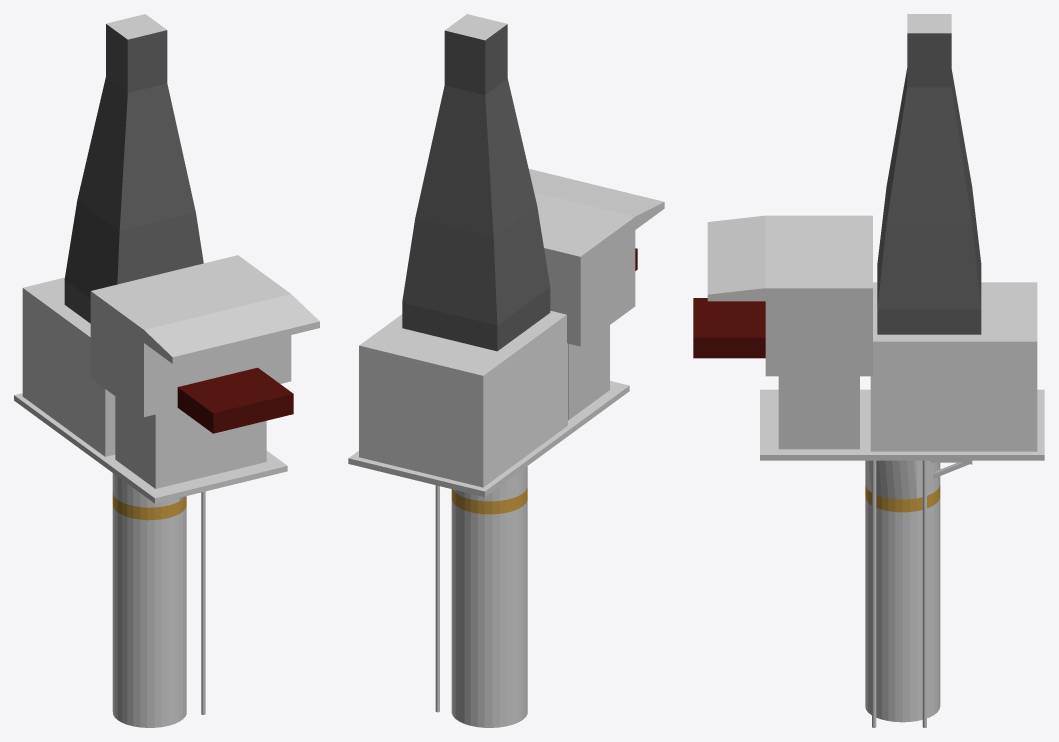
File: OilExtractor.fbx
3 renders of one model, left to right at view 1: azimuth 30°, elevation 25°; view 2: azimuth 150°, elevation 25°; view 3: azimuth 270°, elevation 25°, orthographic. The views are drawn at different scales.
Visible parts, largest first — view 1: Cube, Circle, Circle.001; view 2: Cube, Circle, Circle.001; view 3: Cube, Circle, Circle.001.
Boxes of the visible parts, x1,y1,x2,y2 form: Cube: (14,14,319,503); Circle: (112,473,186,727); Circle.001: (201,491,205,714); Cube: (348,14,664,496); Circle: (451,466,527,727); Circle.001: (435,485,439,712); Cube: (693,14,1044,460); Circle: (865,460,940,722); Circle.001: (872,460,926,727).
Bounding box in the file's own units: 5631 × 24737 × 11515.
